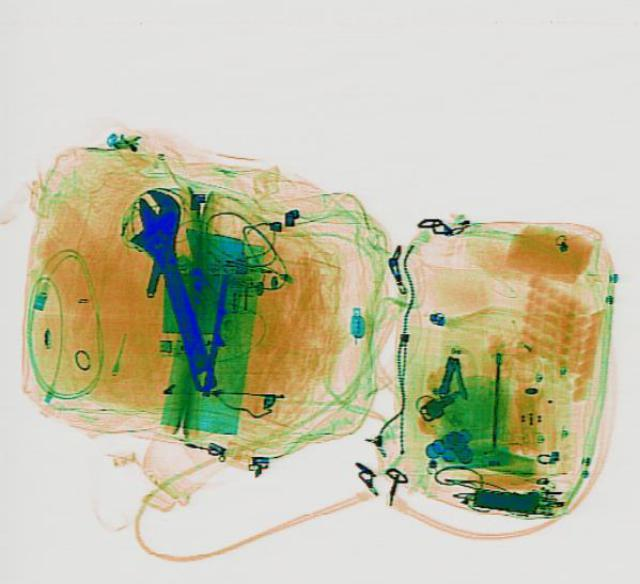Wrench: (115, 182, 232, 394)
